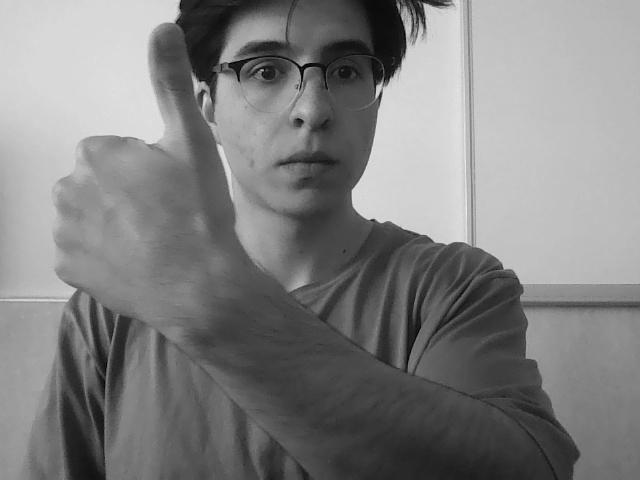good: (37, 18, 249, 351)
